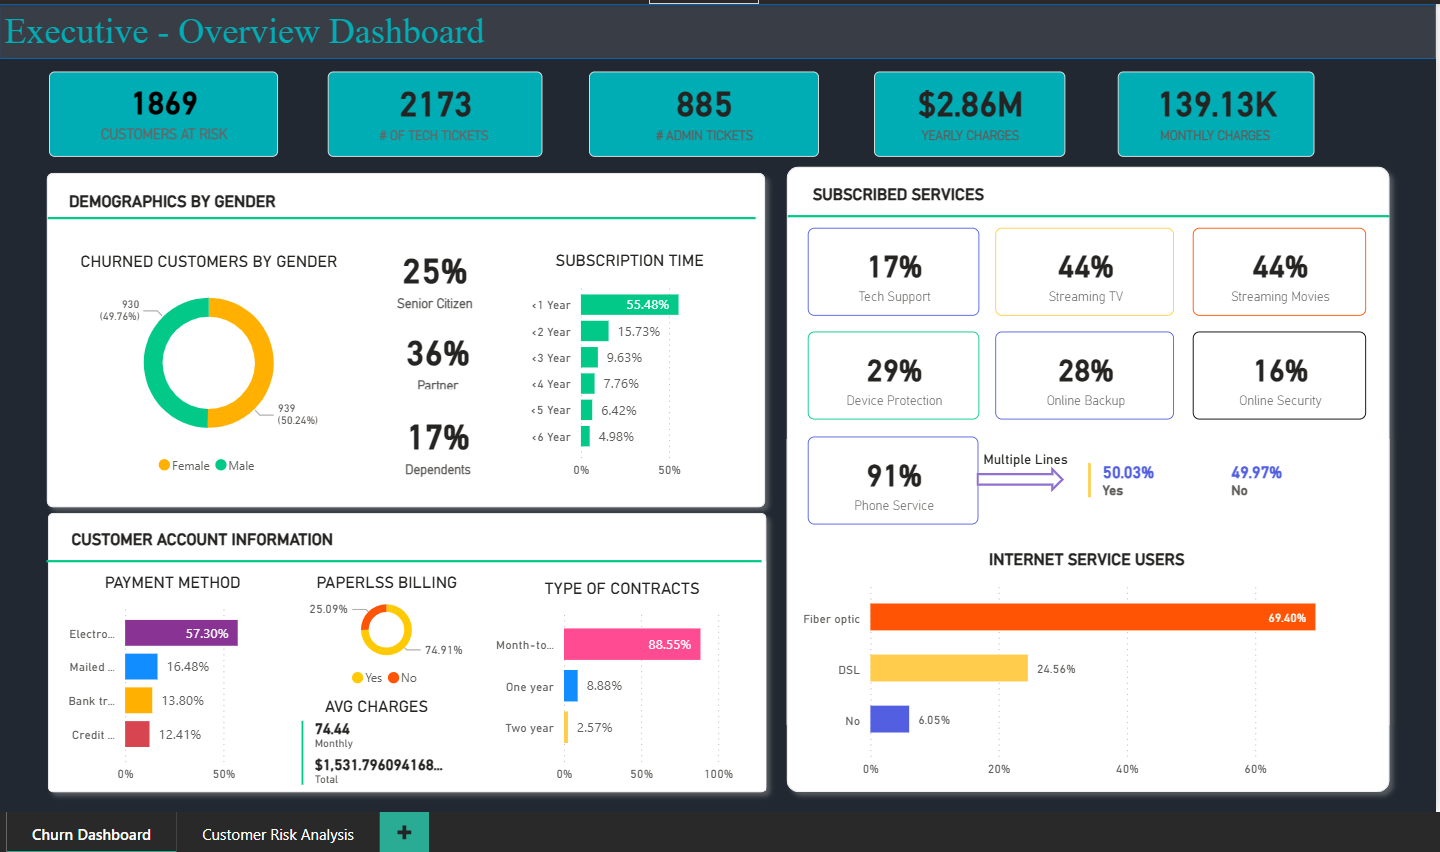

This screenshot's page, from the dashboard's own definition file:
{"tool":"powerbi","page":{"name":"Churn Dashboard","canvas":[1280,720],"ordinal":0},"visuals":[{"type":"shape","box":[0,0,1279.8,49.1],"z":0},{"type":"shape","box":[33.1,141.1,658,316],"z":0,"group":"g1"},{"type":"card","fields":{"Values":["Churn.% Tech Support"]},"box":[720,199,152.4,78.4],"z":0,"group":"g4"},{"type":"shape","box":[692,136,555,575],"z":1000},{"type":"card","fields":{"Values":["Churn.% Streaming TV"]},"box":[887.4,199,159.5,78.4],"z":1000,"group":"g4"},{"type":"donutChart","title":"CHURNED CUSTOMERS BY GENDER","fields":{"Category":["01 Churn-Dataset.gender"],"Y":["CountNonNull(01 Churn-Dataset.gender)"]},"box":[60.2,209.5,252.2,223.4],"z":1000,"group":"g1"},{"type":"shape","box":[702,123,536,133],"z":1500,"group":"g3"},{"type":"shape","box":[42,430,636.8,133],"z":1500,"group":"g2"},{"type":"textbox","box":[703.8,145,522.6,38],"z":2000,"group":"g3"},{"type":"textbox","box":[41.8,151.2,630.9,47.3],"z":2000,"group":"g1"},{"type":"card","fields":{"Values":["Churn.% Streaming Movies"]},"box":[1062.8,199,154.2,78.4],"z":2000,"group":"g4"},{"type":"shape","box":[34,444,658,267],"z":2000},{"type":"textbox","box":[44.2,452,636.8,38],"z":2000,"group":"g2"},{"type":"card","fields":{"Values":["CountNonNull(01 Churn-Dataset.customerID)"]},"box":[44,60,204,76],"z":3000},{"type":"card","fields":{"Values":["Churn.% of Senior Citizen"]},"box":[329.6,209.5,118,77.5],"z":3000,"group":"g1"},{"type":"card","fields":{"Values":["Churn.% Device Protection"]},"box":[720,291.6,152.4,78.4],"z":3000,"group":"g4"},{"type":"card","fields":{"Values":["Churn.% of partner"]},"box":[328.6,284,125.5,74.5],"z":4000,"group":"g1"},{"type":"card","fields":{"Values":["Churn.% Online Backup"]},"box":[887.4,291.6,159.5,78.4],"z":4000,"group":"g4"},{"type":"card","fields":{"Values":["Churn.% Phone Service"]},"box":[720,385,152,78],"z":4000},{"type":"card","fields":{"Values":["Sum(01 Churn-Dataset.numTechTickets)"]},"box":[293.3,60.1,191.4,76.1],"z":5000},{"type":"shape","box":[42.8,150.8,630.7,78.5],"z":5000,"group":"g1"},{"type":"card","fields":{"Values":["Churn.% Online Sec"]},"box":[1062.8,291.6,154.2,78.4],"z":5000,"group":"g4"},{"type":"card","fields":{"Values":["Churn.% of Dependents"]},"box":[328.6,356.5,125.5,79.5],"z":6000,"group":"g1"},{"type":"clusteredBarChart","title":"PAYMENT METHOD","fields":{"Y":["CountNonNull(Churn.PaymentMethod)"],"Category":["Churn.PaymentMethod"]},"box":[44,497,220,204],"z":6000},{"type":"card","fields":{"Values":["Sum(01 Churn-Dataset.TotalCharges)"]},"box":[779.1,60.1,170.6,76.1],"z":7000},{"type":"clusteredBarChart","title":"SUBSCRIPTION TIME","fields":{"Y":["CountNonNull(Churn.Churn)"],"Category":["Churn.Tenure(in years)"]},"box":[466,209.5,190.5,220.4],"z":7000,"group":"g1"},{"type":"card","fields":{"Values":["Sum(01 Churn-Dataset.numAdminTickets)"]},"box":[525.2,60.1,204.9,76.1],"z":8000},{"type":"group","id":"g1","title":"Group 1","box":[33.1,141.1,658,316],"z":9000},{"type":"card","fields":{"Values":["Sum(01 Churn-Dataset.MonthlyCharges)"]},"box":[996.3,60.1,175.5,76.1],"z":10000},{"type":"donutChart","title":"PAPERLSS BILLING","fields":{"Category":["Churn.PaperlessBilling"],"Y":["CountNonNull(Churn.PaperlessBilling)"]},"box":[248,497,194,126],"z":11000},{"type":"multiRowCard","title":"AVG CHARGES","fields":{"Values":["Avg(Churn.MonthlyCharges)","Avg(Churn.TotalCharges)"]},"box":[264,606,143,95],"z":12000},{"type":"clusteredBarChart","title":"TYPE OF CONTRACTS","fields":{"Category":["Churn.Contract"],"Y":["CountNonNull(Churn.Contract)"]},"box":[426,497,257,204],"z":13000},{"type":"group","id":"g2","title":"Group 2","box":[42,430,639,133],"z":14000},{"type":"group","id":"g3","title":"Group 2","box":[702,123,536,133],"z":15000},{"type":"group","id":"g4","title":"Group 3","box":[720,199,497,171],"z":16000},{"type":"shape","box":[871,412,78,23],"z":17000},{"type":"textbox","box":[872,391,300,30],"z":18000},{"type":"multiRowCard","fields":{"Values":["Churn.% Yes-Multiple Lines","Churn.% No-Multiple Lines"]},"box":[965,404,252,53],"z":19000},{"type":"barChart","title":"INTERNET SERVICE USERS","fields":{"Y":["CountNonNull(Churn.InternetService)"],"Category":["Churn.InternetService"]},"box":[710,471,517,230],"z":20000},{"type":"textbox","box":[0,0,467.5,49.1],"z":21000}]}

Visuals, with their boxes in screenshot pixels (x1, y1, x2, y2):
shape: bbox=[4, 4, 1424, 58]
shape: bbox=[40, 160, 770, 511]
card - Churn.% Tech Support: bbox=[803, 225, 972, 312]
shape: bbox=[771, 155, 1387, 793]
card - Churn.% Streaming TV: bbox=[988, 225, 1165, 312]
"CHURNED CUSTOMERS BY GENDER" donutChart: bbox=[71, 236, 350, 484]
shape: bbox=[783, 140, 1377, 288]
shape: bbox=[50, 481, 757, 628]
textbox: bbox=[785, 165, 1364, 207]
textbox: bbox=[50, 171, 750, 224]
card - Churn.% Streaming Movies: bbox=[1183, 225, 1354, 312]
shape: bbox=[41, 496, 771, 793]
textbox: bbox=[53, 505, 759, 547]
card - CountNonNull(01 Churn-Dataset.customerID): bbox=[53, 70, 279, 155]
card - Churn.% of Senior Citizen: bbox=[369, 236, 500, 322]
card - Churn.% Device Protection: bbox=[803, 327, 972, 414]
card - Churn.% of partner: bbox=[368, 319, 508, 401]
card - Churn.% Online Backup: bbox=[988, 327, 1165, 414]
card - Churn.% Phone Service: bbox=[803, 431, 971, 517]
card - Sum(01 Churn-Dataset.numTechTickets): bbox=[329, 70, 542, 155]
shape: bbox=[51, 171, 751, 258]
card - Churn.% Online Sec: bbox=[1183, 327, 1354, 414]
card - Churn.% of Dependents: bbox=[368, 399, 508, 487]
"PAYMENT METHOD" clusteredBarChart: bbox=[53, 555, 297, 781]
card - Sum(01 Churn-Dataset.TotalCharges): bbox=[868, 70, 1057, 155]
"SUBSCRIPTION TIME" clusteredBarChart: bbox=[521, 236, 732, 481]
card - Sum(01 Churn-Dataset.numAdminTickets): bbox=[586, 70, 814, 155]
"Group 1" group: bbox=[40, 160, 770, 511]
card - Sum(01 Churn-Dataset.MonthlyCharges): bbox=[1109, 70, 1304, 155]
"PAPERLSS BILLING" donutChart: bbox=[279, 555, 494, 695]
"AVG CHARGES" multiRowCard: bbox=[297, 676, 455, 781]
"TYPE OF CONTRACTS" clusteredBarChart: bbox=[476, 555, 762, 781]
"Group 2" group: bbox=[50, 481, 759, 628]
"Group 2" group: bbox=[783, 140, 1377, 288]
"Group 3" group: bbox=[803, 225, 1354, 414]
shape: bbox=[970, 461, 1057, 486]
textbox: bbox=[971, 438, 1304, 471]
multiRowCard - Churn.% Yes-Multiple Lines x Churn.% No-Multiple Lines: bbox=[1074, 452, 1354, 511]
"INTERNET SERVICE USERS" barChart: bbox=[791, 526, 1365, 781]
textbox: bbox=[4, 4, 522, 58]
